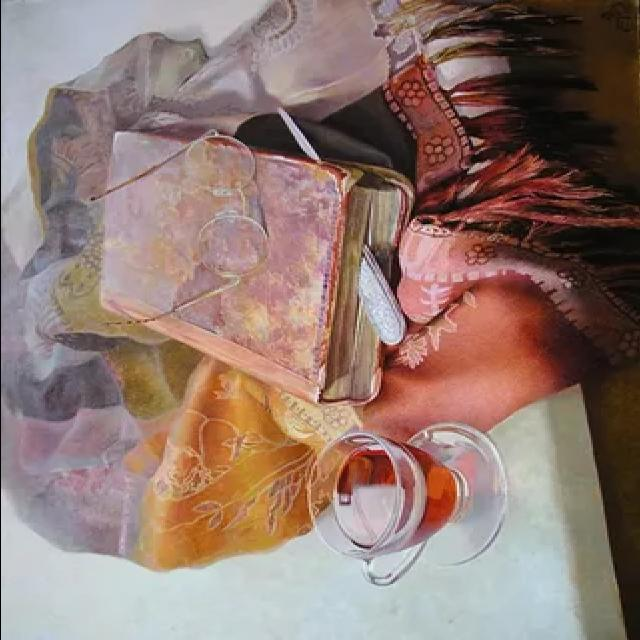book: (71, 108, 427, 410)
